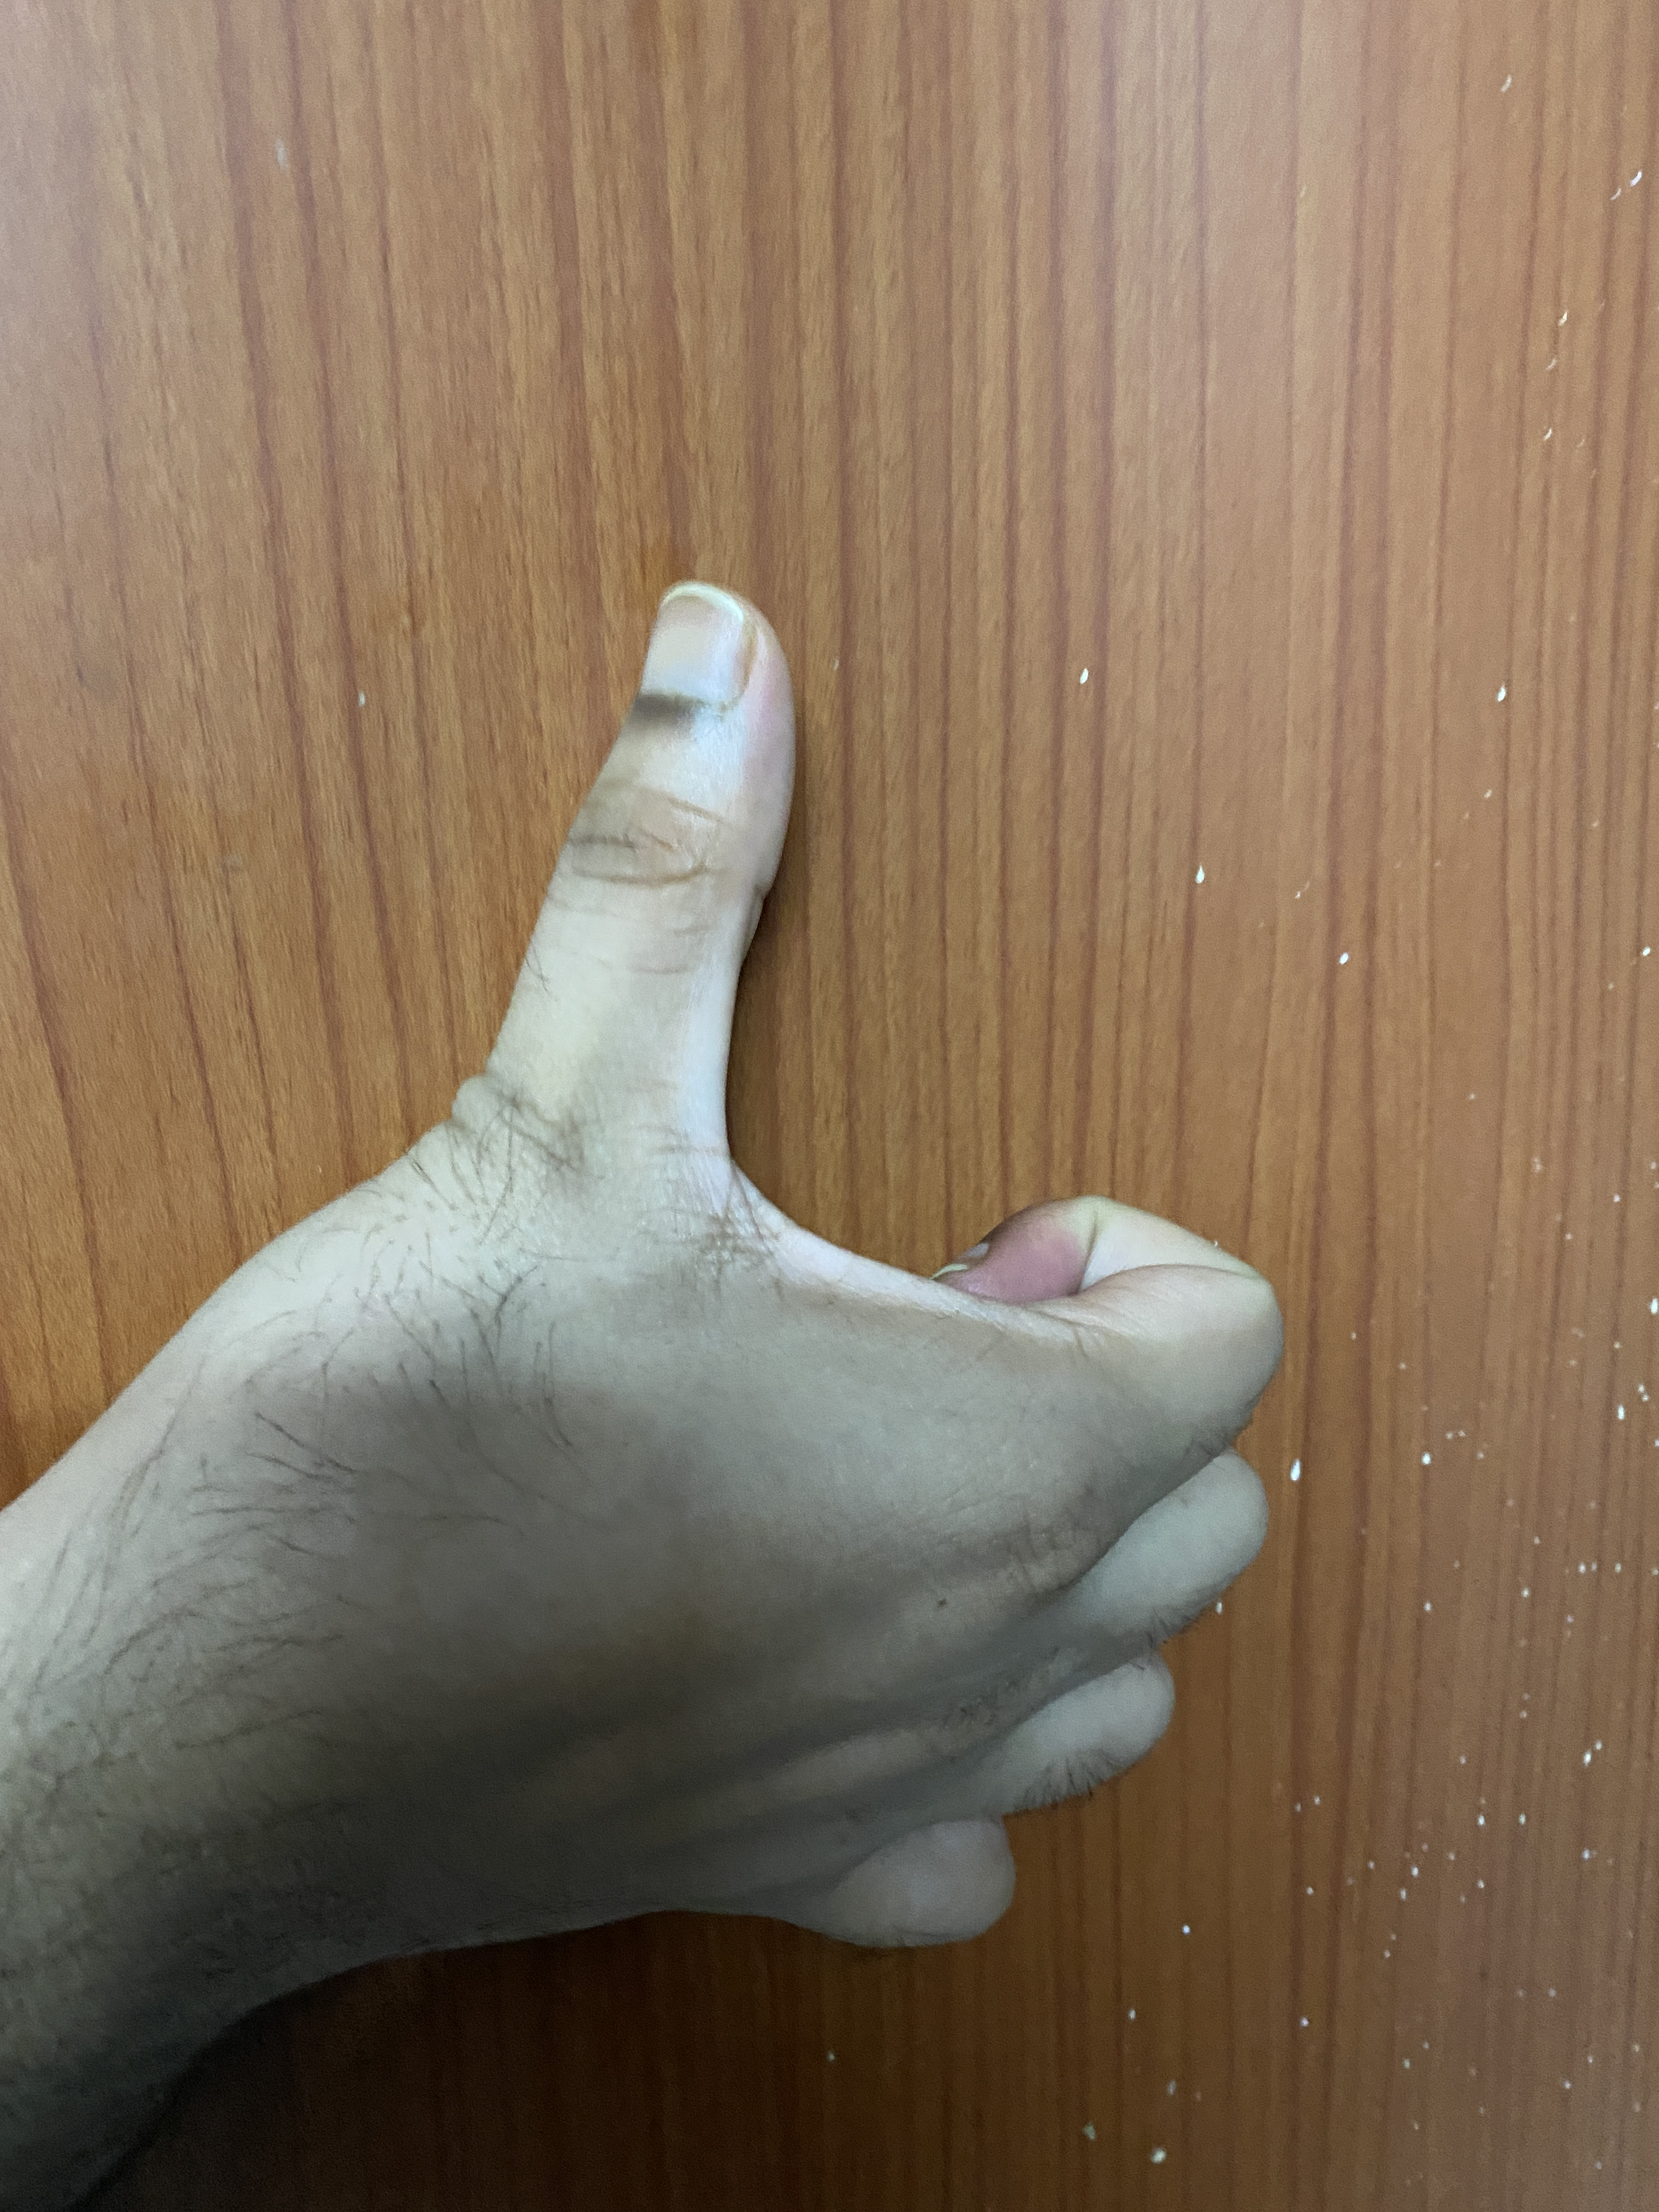up: (122, 449, 1459, 2071)
